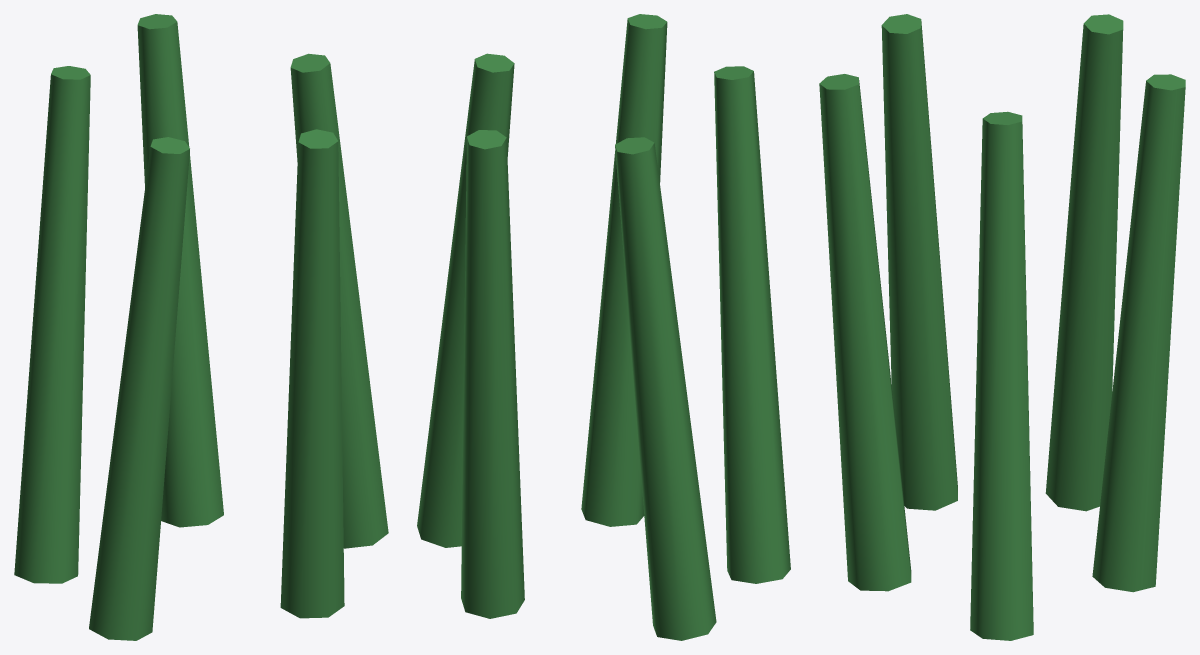
File: crop_strawberry_growing.glb
The picture shows the model from 3 angles, left to right: view 1: azimuth 30°, elevation 25°; view 2: azimuth 150°, elevation 25°; view 3: azimuth 270°, elevation 25°; orthographic projection.
Parts seen in each view (by area): view 1: stem_3, stem_2, stem_1, stem_4, stem_0; view 2: stem_2, stem_3, stem_4, stem_1, stem_0; view 3: stem_0, stem_1, stem_4, stem_2, stem_3.
Boxes of the visible parts, x1,y1,x2,y2 form: stem_3: [14, 66, 90, 583]; stem_2: [89, 137, 189, 640]; stem_1: [280, 129, 344, 618]; stem_4: [137, 14, 223, 527]; stem_0: [290, 53, 388, 548]; stem_2: [714, 66, 790, 583]; stem_3: [615, 137, 716, 640]; stem_4: [461, 130, 524, 618]; stem_1: [581, 14, 667, 526]; stem_0: [417, 53, 514, 547]; stem_0: [970, 111, 1033, 640]; stem_1: [819, 74, 911, 591]; stem_4: [1092, 74, 1185, 592]; stem_2: [881, 14, 957, 510]; stem_3: [1045, 14, 1123, 511].
Size of what is drawn, in the model's own units: 0.462 by 0.6532 by 0.4392.
